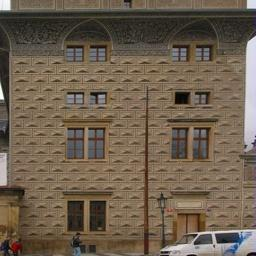building: (2, 0, 256, 250)
